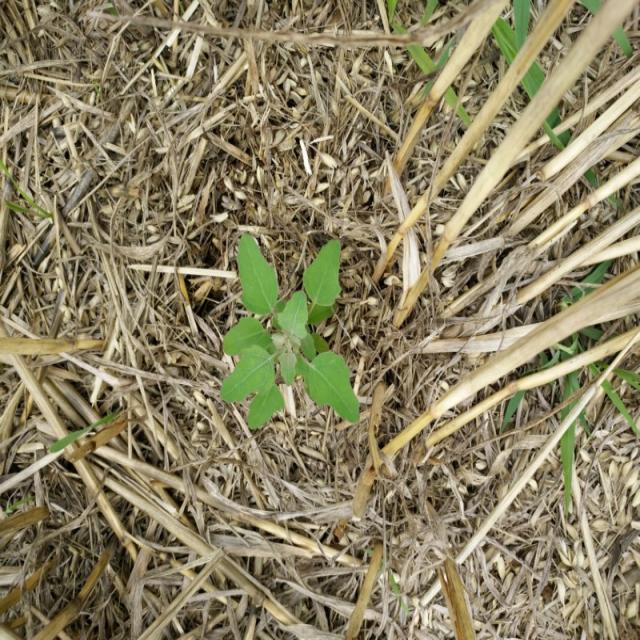ca: (226, 236, 360, 431)
